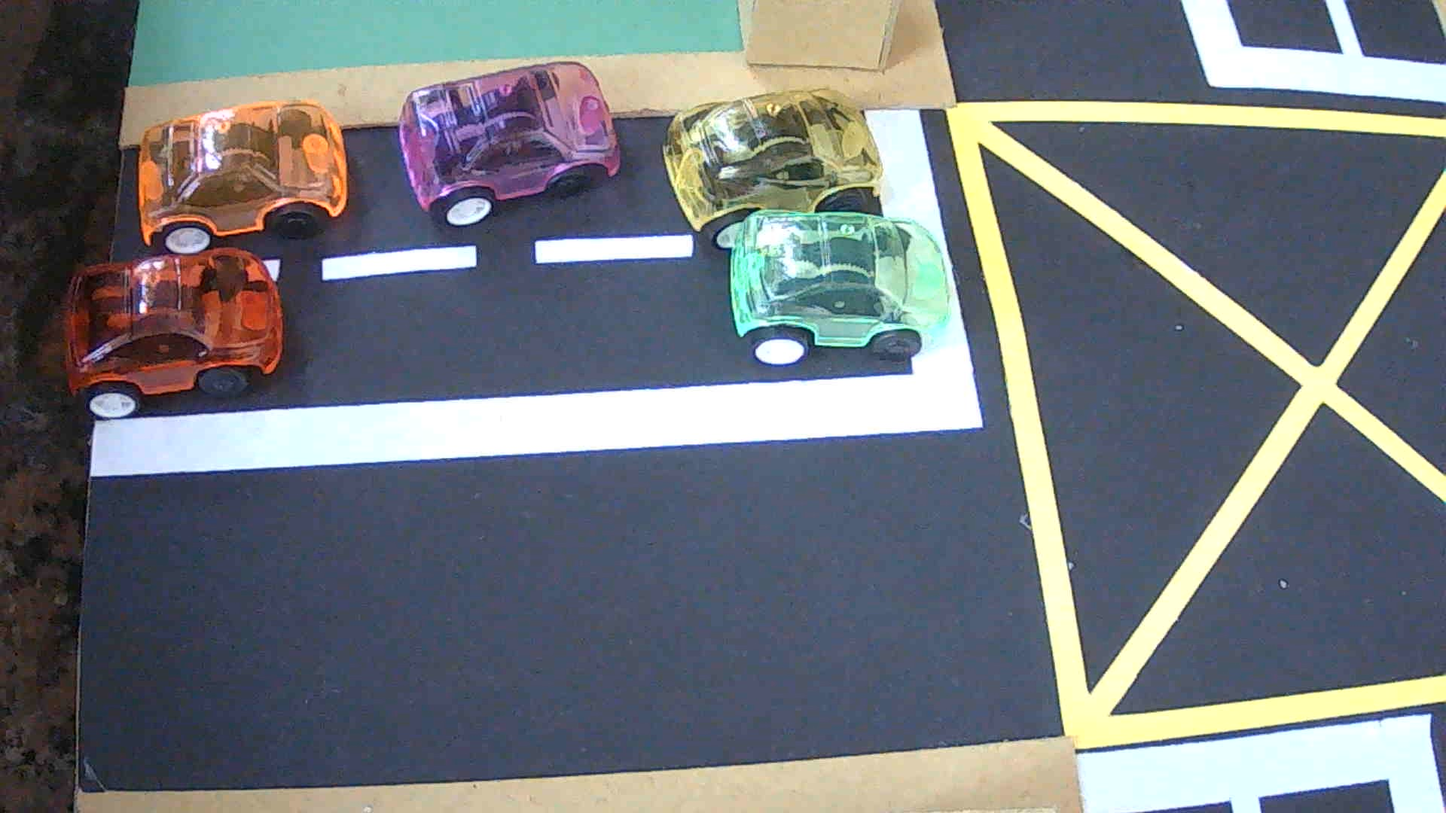Mobil hijau: (730, 210, 951, 365)
Mobil kuning: (663, 90, 882, 250)
Mobil merah: (65, 248, 282, 419)
Mobil orange: (136, 100, 348, 254)
Mobil ungu: (398, 62, 620, 227)
